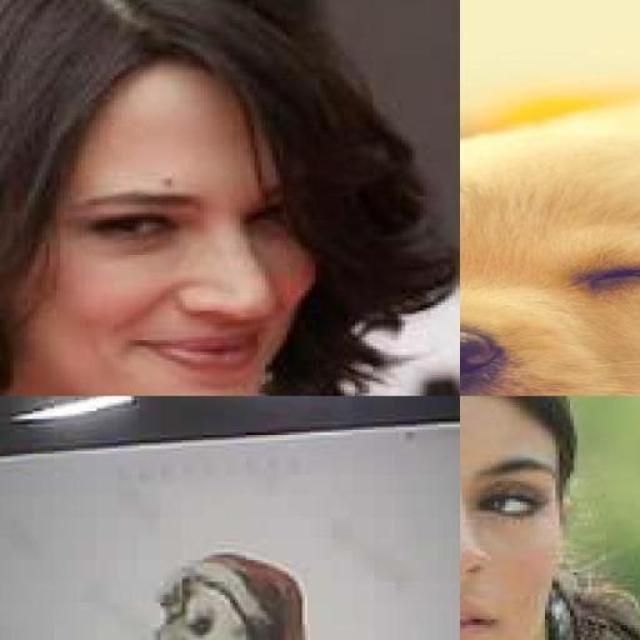bareface: (31, 0, 384, 398)
